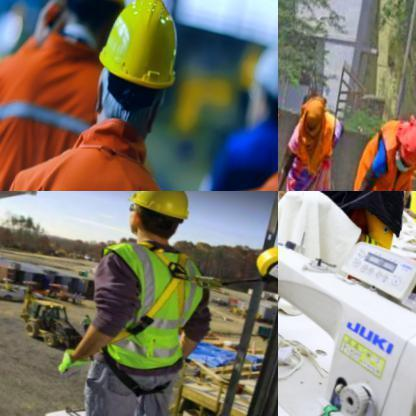vest: (67, 224, 228, 391), (0, 95, 204, 190), (0, 14, 108, 190), (345, 115, 415, 190), (284, 111, 349, 179)
